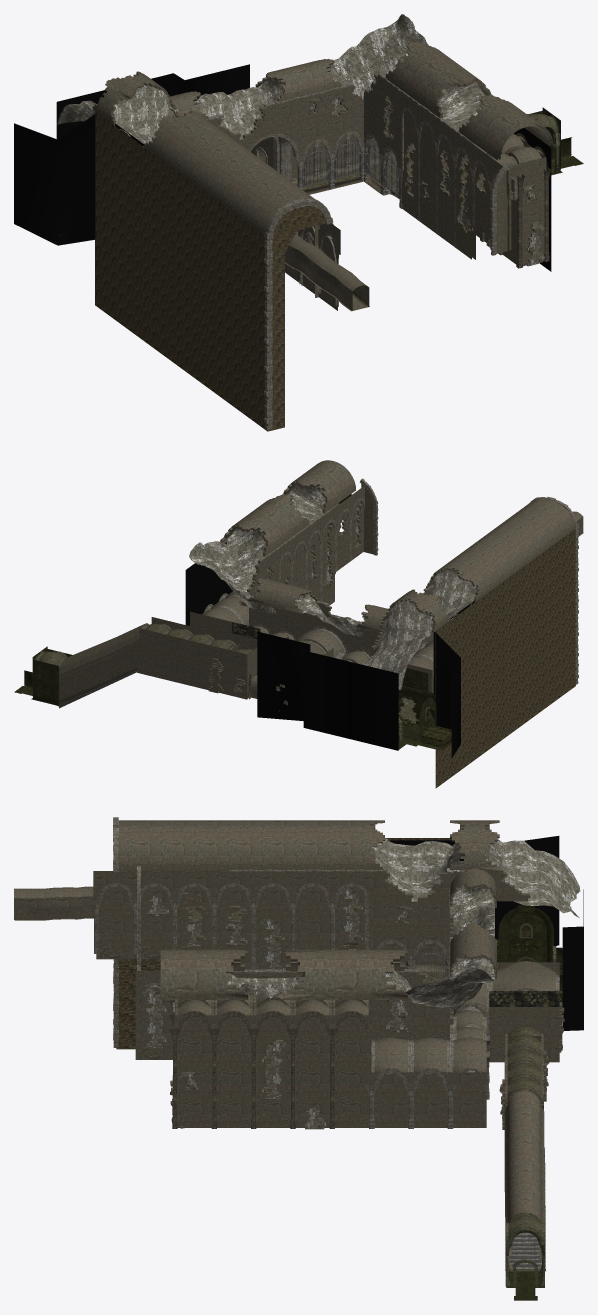
File: map_part2_DDS.fbx
The picture shows the model from 3 angles, top to bottom: view 1: azimuth 30°, elevation 25°; view 2: azimuth 150°, elevation 25°; view 3: azimuth 270°, elevation 25°; orthographic projection. The views are drawn at different scales.
Visible parts, largest first — view 1: m0062B1A18, m0060B1A18, m0061B1A18, m0080B1A18; view 2: m0062B1A18, m0080B1A18, m0060B1A18, m0070B1A18; view 3: m0060B1A18, m0062B1A18, m0080B1A18, m0070B1A18.
Boxes of the visible parts, x1=… form: m0062B1A18: x1=14, y1=14, x2=553, y2=431; m0060B1A18: x1=249, y1=107, x2=551, y2=311; m0061B1A18: x1=302, y1=139, x2=399, y2=198; m0080B1A18: x1=259, y1=107, x2=583, y2=175; m0062B1A18: x1=185, y1=460, x2=578, y2=788; m0080B1A18: x1=14, y1=617, x2=257, y2=708; m0060B1A18: x1=190, y1=498, x2=583, y2=720; m0070B1A18: x1=398, y1=665, x2=451, y2=750; m0060B1A18: x1=14, y1=883, x2=564, y2=1129; m0062B1A18: x1=93, y1=817, x2=583, y2=1049; m0080B1A18: x1=499, y1=1016, x2=549, y2=1300; m0070B1A18: x1=496, y1=905, x2=562, y2=1014.
Bounding box in the file's own units: 55.67 × 21.74 × 45.98.
